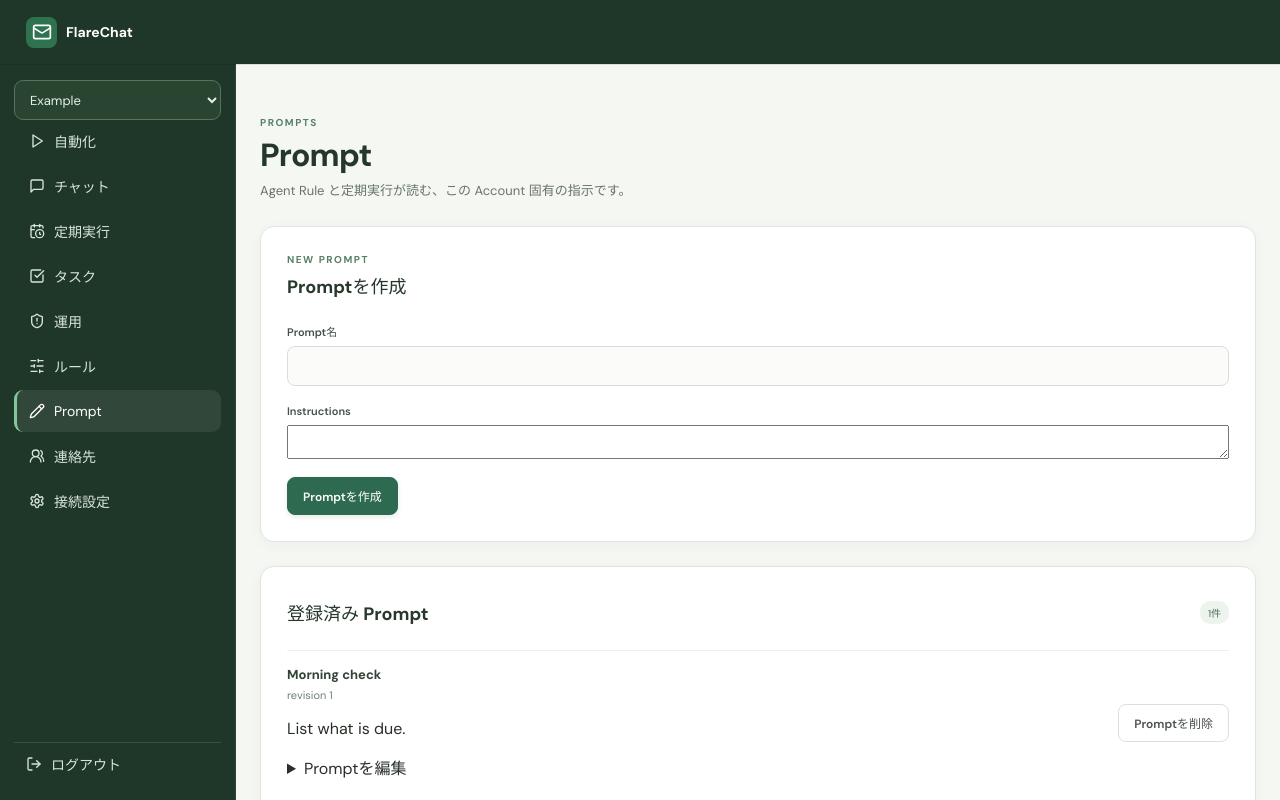
Test case: Prompts screen › creates a Prompt and re-reads the list
The width and height of the screenshot is (1280, 800).
Check: the text "Morning check" is shown, box [287, 666, 381, 683]
Type "Weekly digest" into the field labelled "Prompt名" at (758, 366), box [287, 346, 1229, 386]
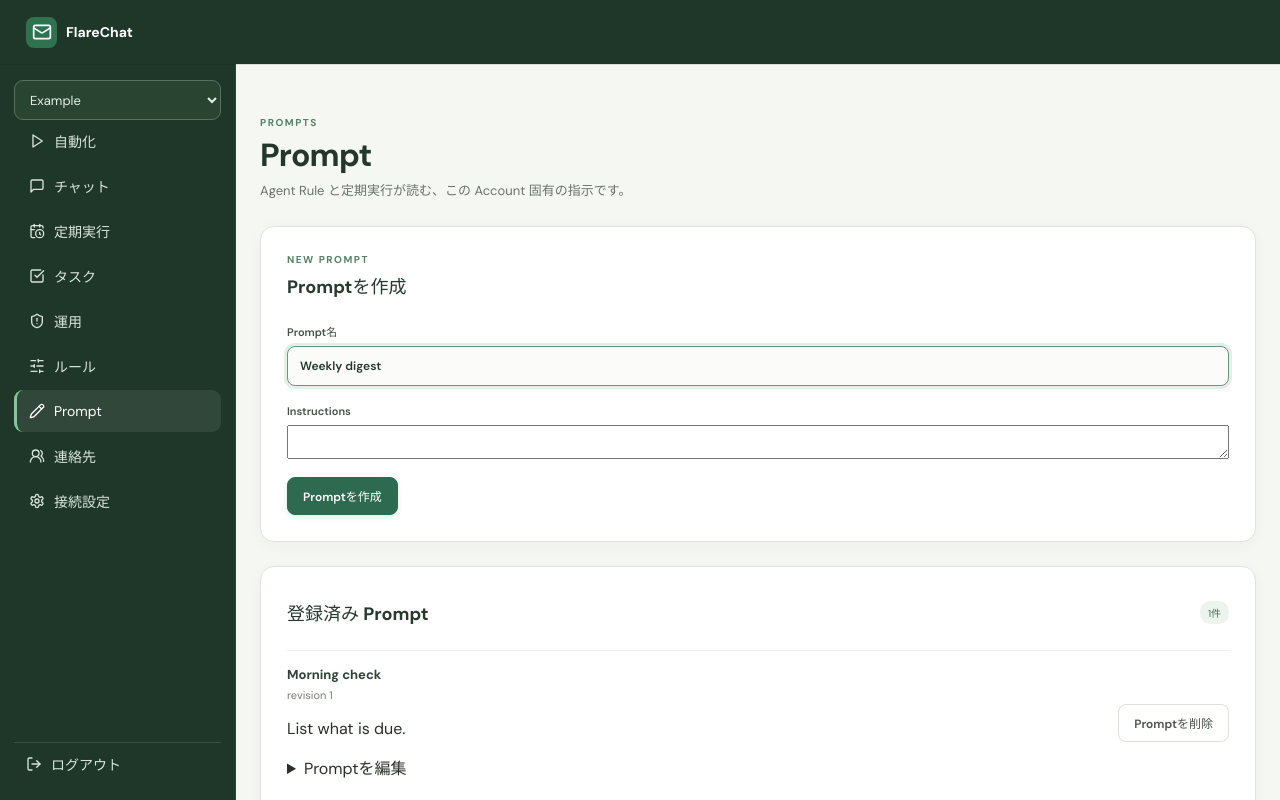
Type "Summarise the week." into the text box labelled "Instructions" at (758, 442), box [287, 425, 1229, 459]
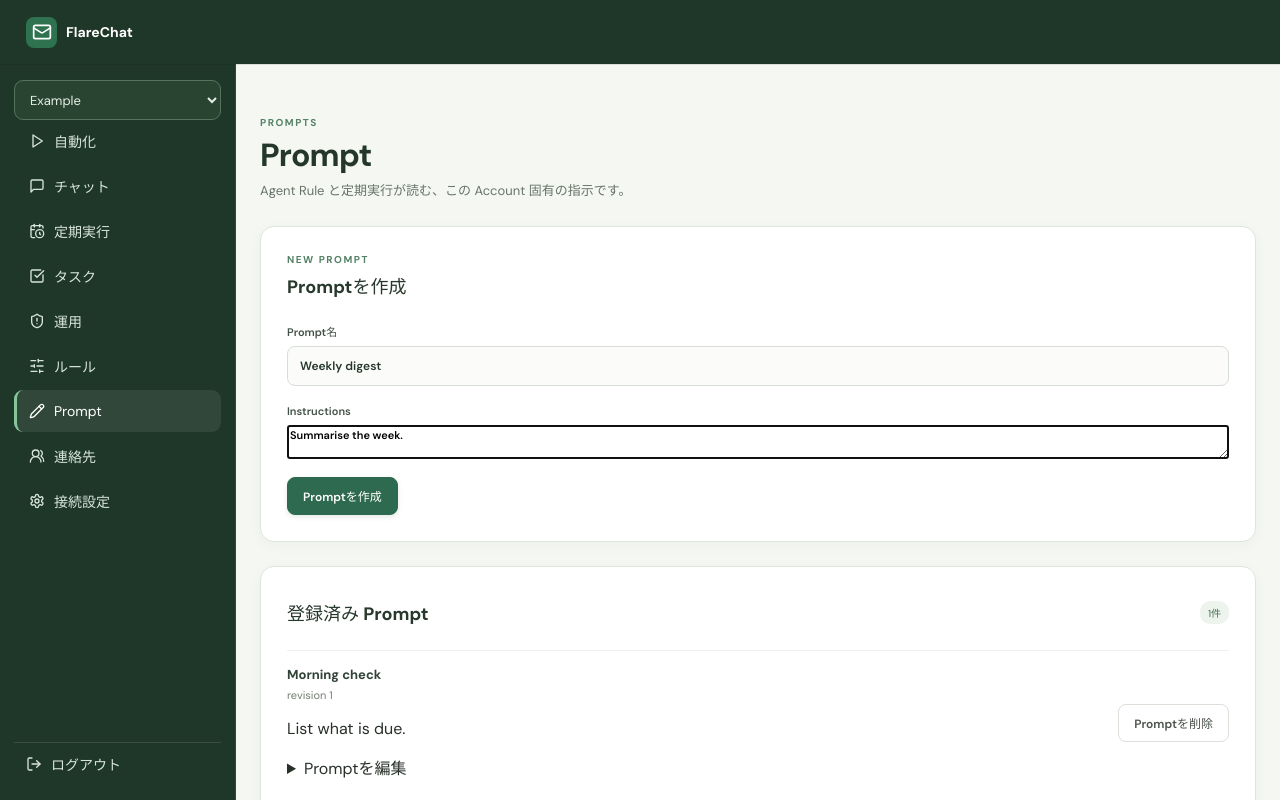
Click the button "Promptを作成" at (342, 496), box [287, 477, 398, 515]
(page scrolled)
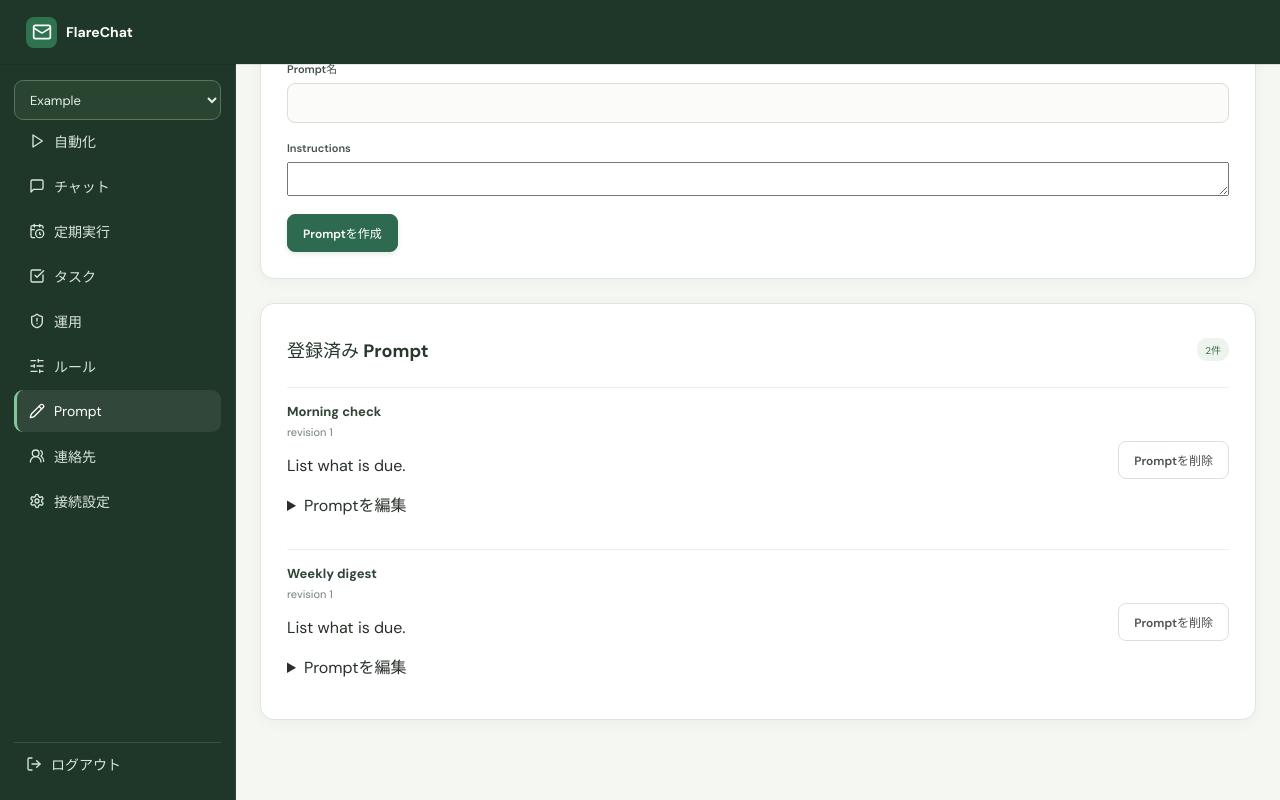
Check: the text "Weekly digest" is shown, box [287, 565, 377, 582]
